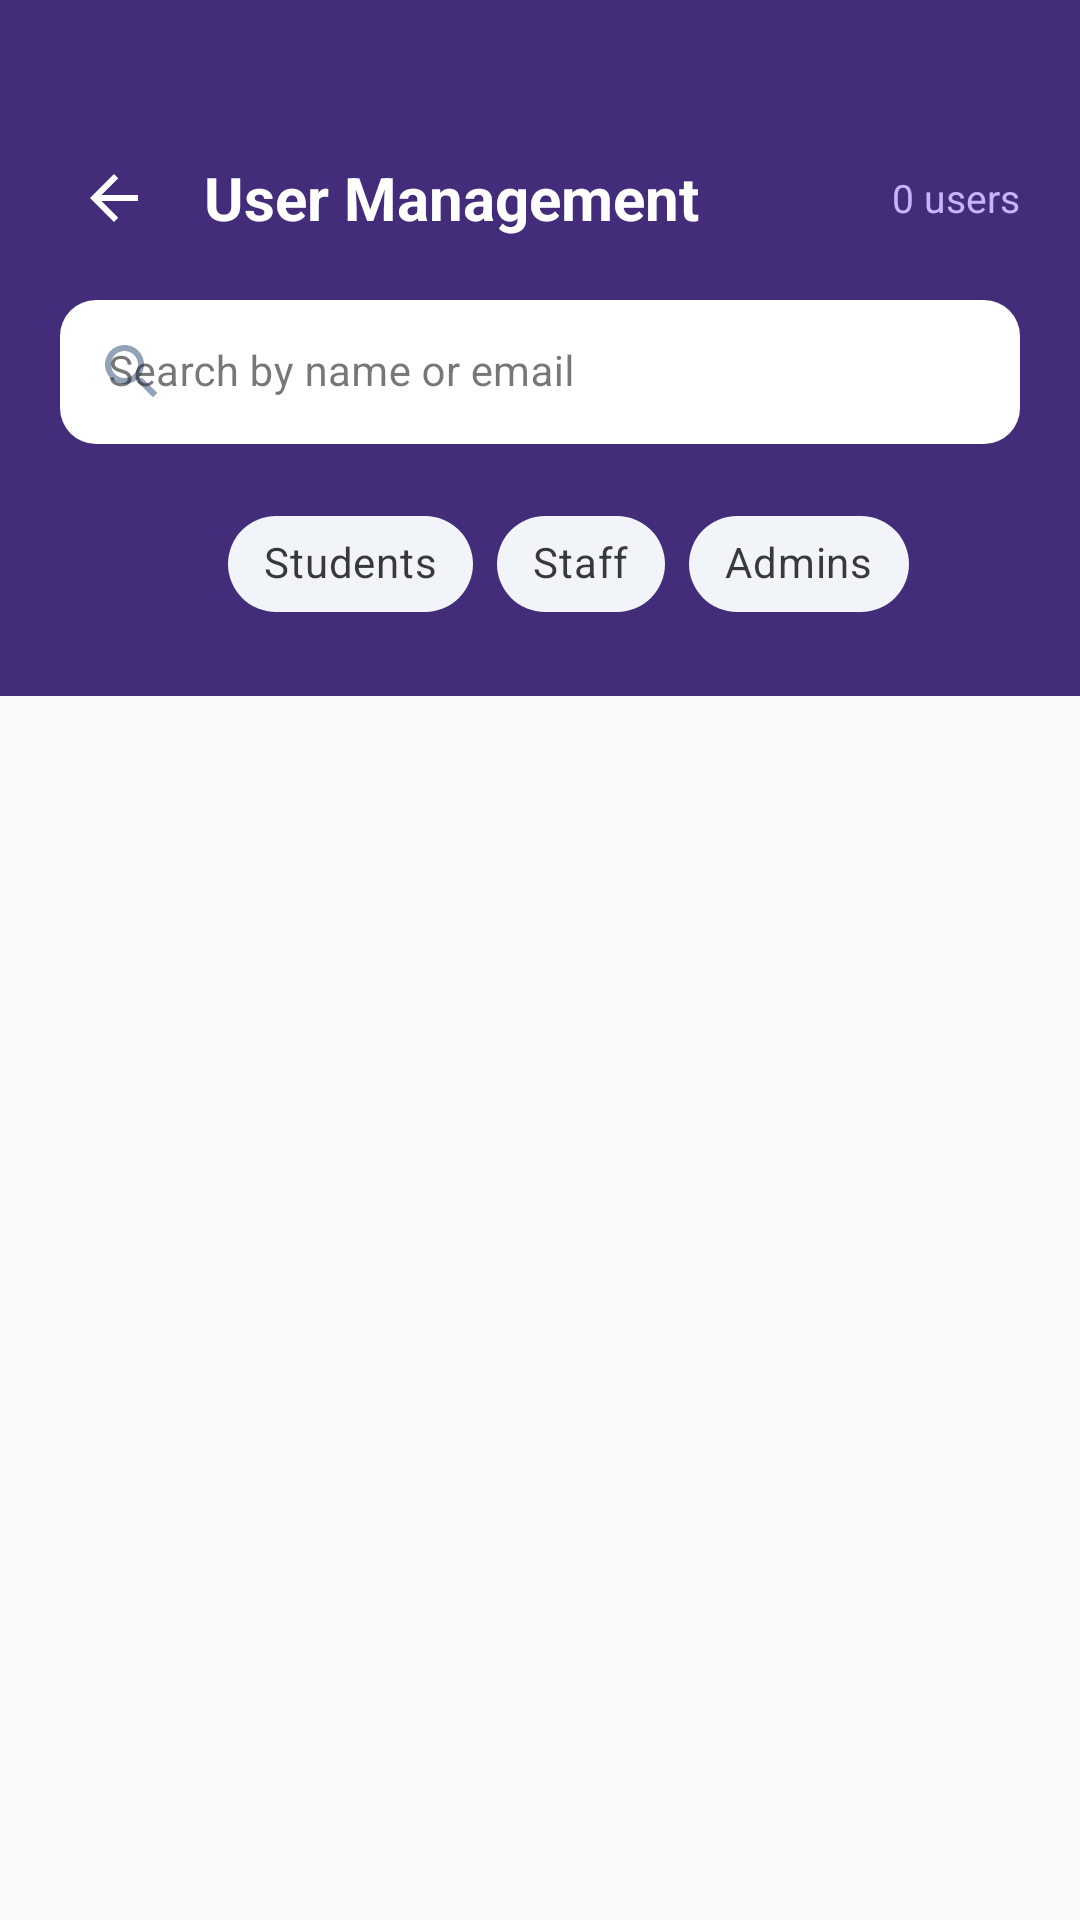

Named icons in this screenshot (1080x1920) and their bounding boxes, (x1, y1, x2, y2):
Back: (90, 174, 138, 222)
